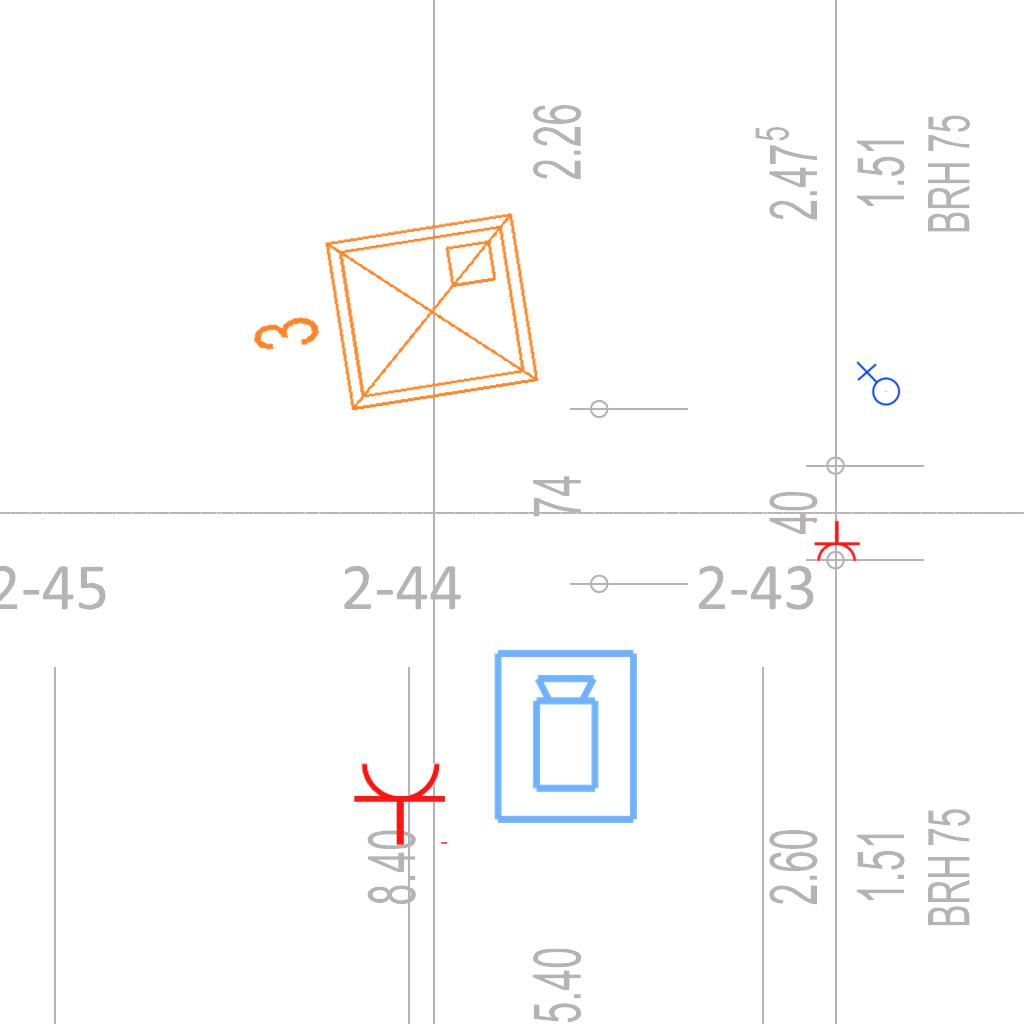Einbaudownlights_LED_Konferenzraeume: (227, 195, 557, 449)
Elektroanschluss_allgemein_230V_Geraeteanschlussdose_230V: (854, 361, 901, 410)
KFO_Kamera_mit_Festobjektiv: (490, 646, 644, 828)
Schukosteckdose_einfach: (352, 760, 452, 847), (811, 520, 861, 563)
